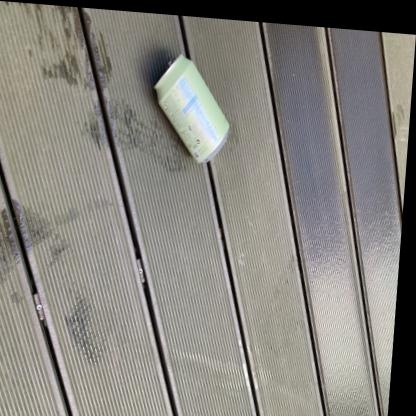trash: (154, 55, 228, 162)
